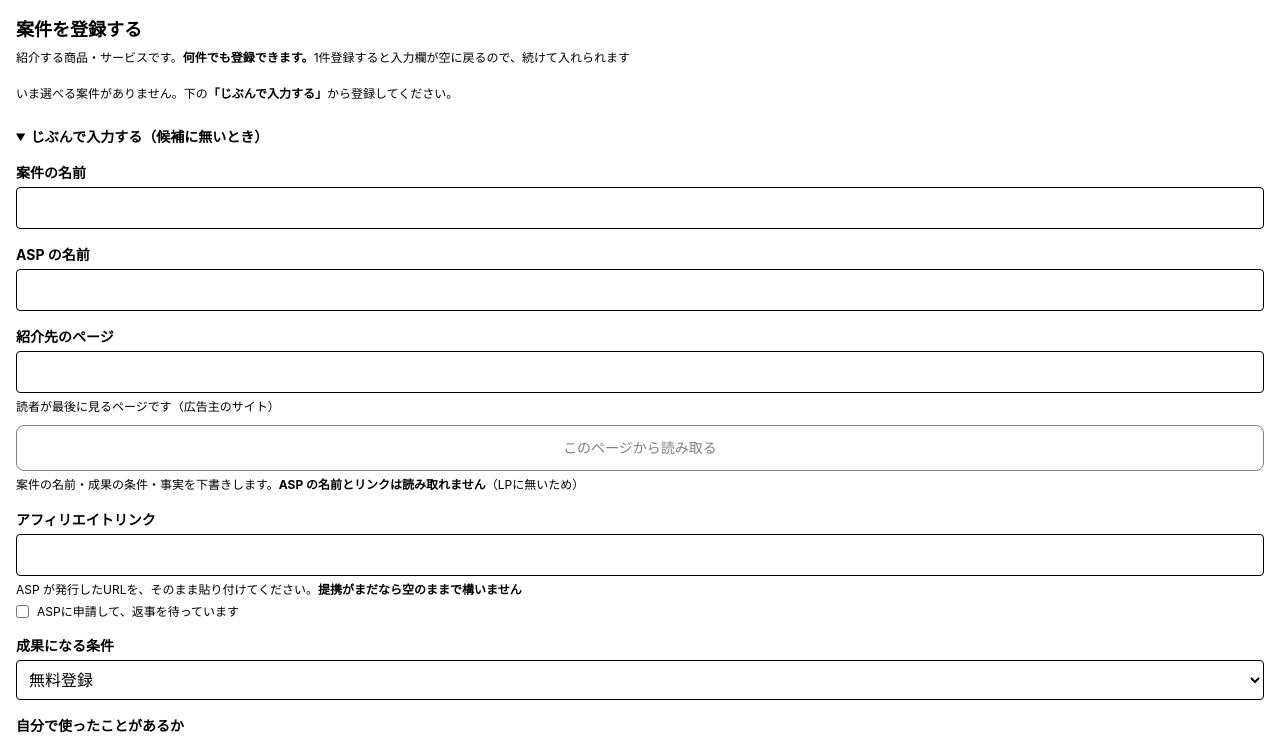
Scenario: ページから読み取る › 読み取れなくても、入力欄はそのまま使える
This screenshot has width=1280, height=740.
Type "https://lp.example.com" into the field labelled "紹介先のページ".
click(640, 372); type("https://lp.example.com")  # box [16,351,1264,393]
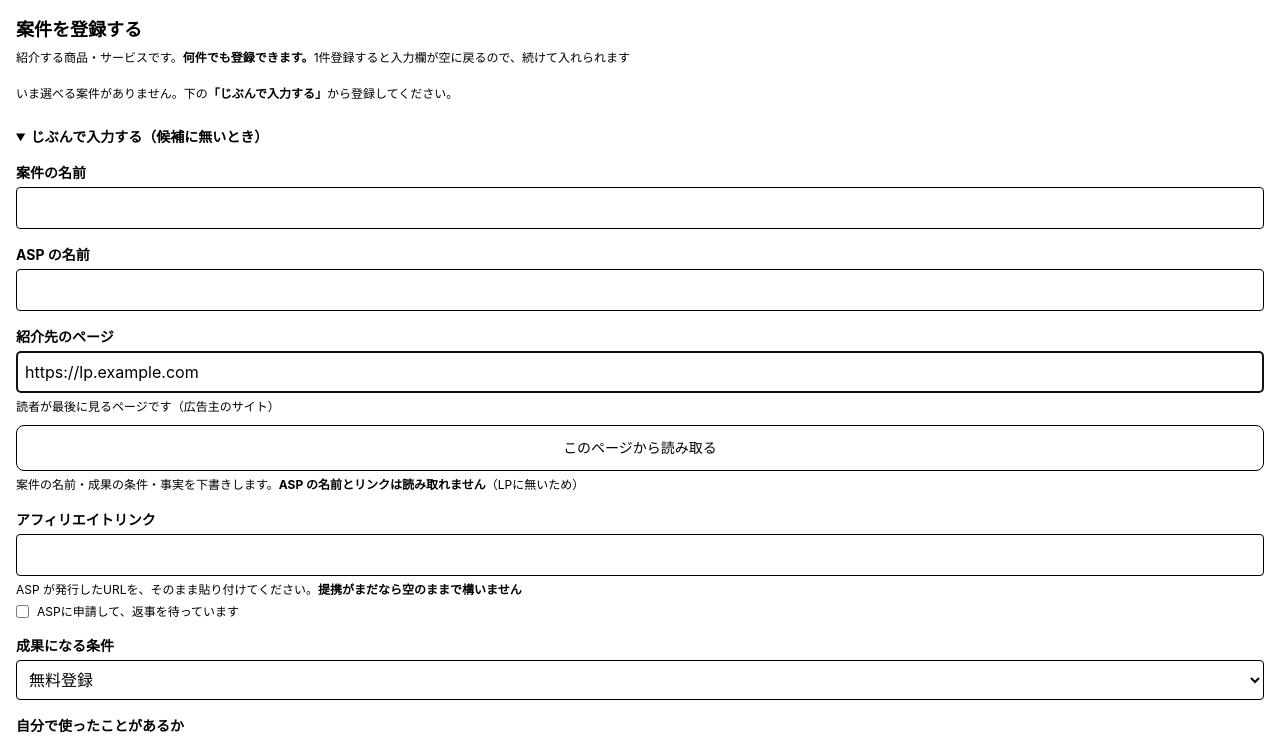
Click the button "このページから読み取る".
click(640, 448)  # box [16,424,1264,470]
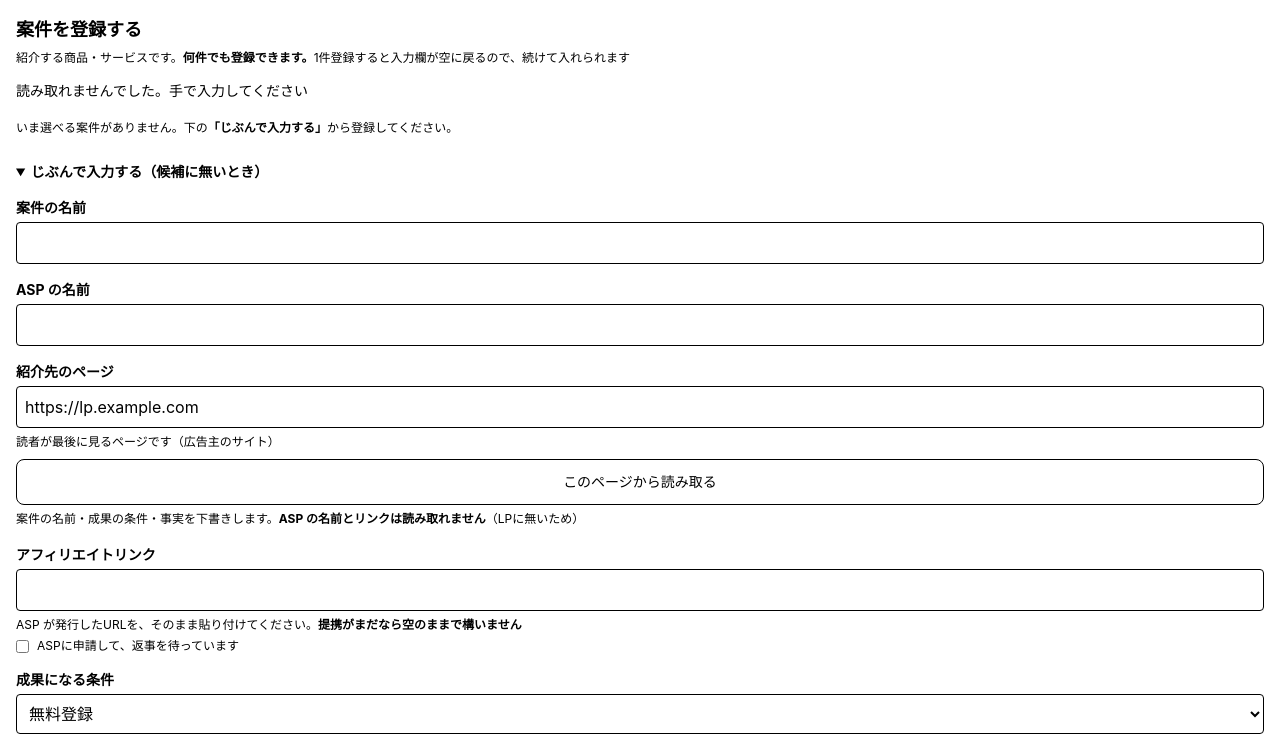
expect the field labelled "案件の名前" is enabled: met, box [16,222,1264,264]
expect the text "読み取れませんでした。手で入力してください" is shown: met, box [16,82,308,98]
